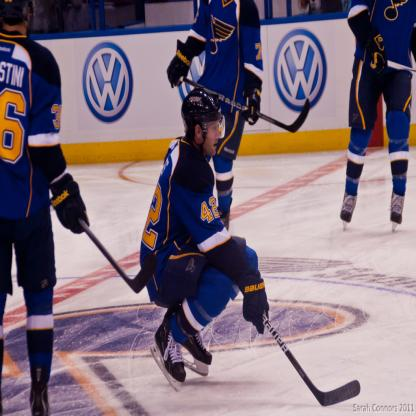Helmet: (180, 86, 227, 146)
